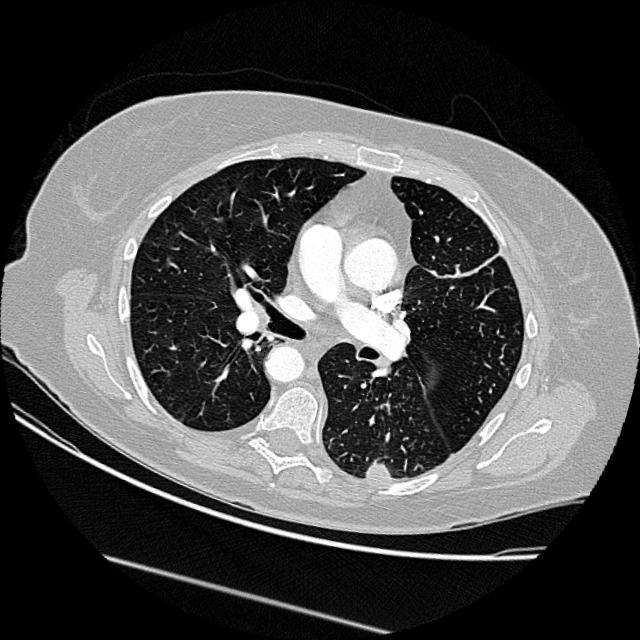nodule: (350, 442, 410, 503)
